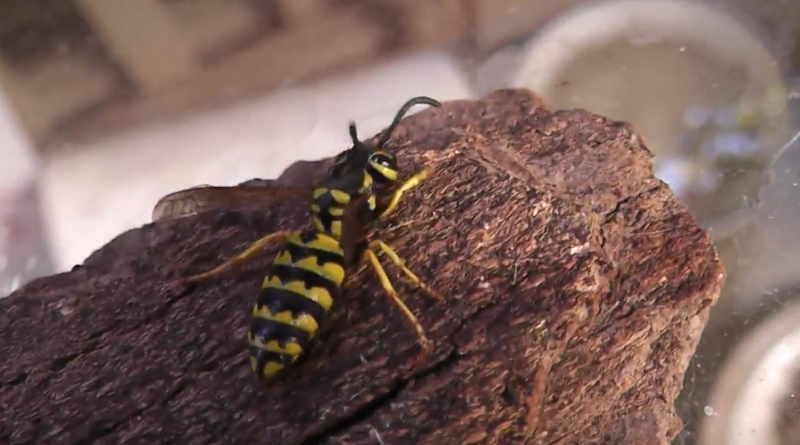chax: (148, 69, 524, 383)
